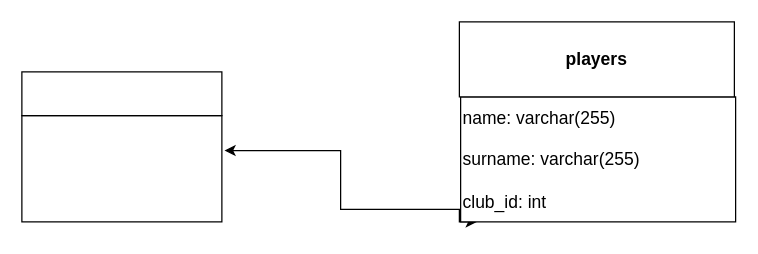
The diagram is 758 pixels wide and 254 high, and some of its shapes have lost their labels. Here are the shapes that lost their labels. From the top down, the box of each, then its label:
(21, 71, 222, 116): club
(21, 114, 222, 222): id: serial name: varchar(255)
